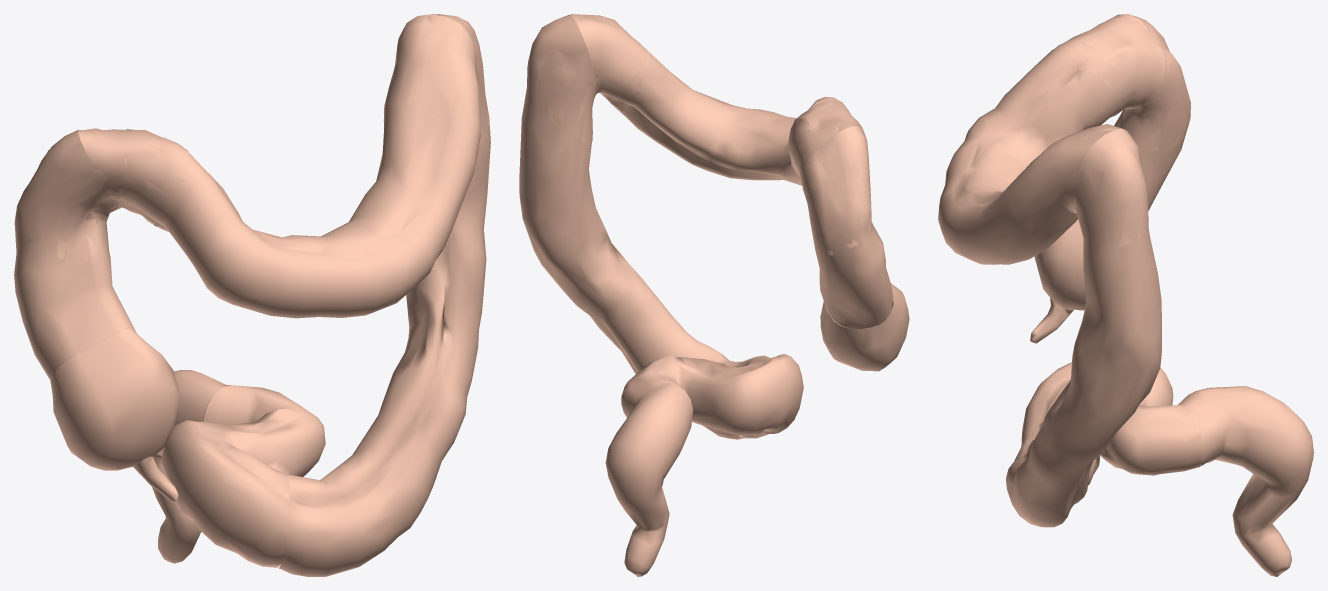
Rendered from sbu_f_intestine_large-40.glb.
3 renders of one model, left to right at view 1: azimuth 30°, elevation 25°; view 2: azimuth 150°, elevation 25°; view 3: azimuth 270°, elevation 25°, orthographic. The views are drawn at different scales.
Parts seen in each view (by area): view 1: VH_F_transverse_colon, VH_F_descending_colon, VH_F_sigmoid_colon, VH_F_ascending_colon, VH_F_caecum, VH_F_hepatic_flexure_of_colon, VH_F_rectum, VH_F_splenic_flexure_of_colon, VH_F_vermiform_appendix; view 2: VH_F_descending_colon, VH_F_transverse_colon, VH_F_ascending_colon, VH_F_rectum, VH_F_sigmoid_colon, VH_F_caecum, VH_F_splenic_flexure_of_colon, VH_F_hepatic_flexure_of_colon; view 3: VH_F_descending_colon, VH_F_transverse_colon, VH_F_rectum, VH_F_sigmoid_colon, VH_F_ascending_colon, VH_F_hepatic_flexure_of_colon, VH_F_splenic_flexure_of_colon, VH_F_caecum, VH_F_vermiform_appendix.
Part boxes in pixels (<box>): VH_F_transverse_colon: <box>78,14,480,318</box>; VH_F_descending_colon: <box>278,14,490,576</box>; VH_F_sigmoid_colon: <box>161,385,325,567</box>; VH_F_ascending_colon: <box>14,130,135,379</box>; VH_F_caecum: <box>50,327,180,470</box>; VH_F_hepatic_flexure_of_colon: <box>15,128,188,261</box>; VH_F_rectum: <box>152,370,230,563</box>; VH_F_splenic_flexure_of_colon: <box>383,14,489,154</box>; VH_F_vermiform_appendix: <box>133,456,178,502</box>; VH_F_descending_colon: <box>519,15,742,439</box>; VH_F_transverse_colon: <box>570,14,862,185</box>; VH_F_ascending_colon: <box>800,126,893,329</box>; VH_F_rectum: <box>605,380,693,576</box>; VH_F_sigmoid_colon: <box>622,354,803,438</box>; VH_F_caecum: <box>820,283,909,371</box>; VH_F_splenic_flexure_of_colon: <box>525,14,649,142</box>; VH_F_hepatic_flexure_of_colon: <box>788,96,874,255</box>; VH_F_descending_colon: <box>1006,128,1161,527</box>; VH_F_transverse_colon: <box>938,14,1164,264</box>; VH_F_rectum: <box>1197,386,1313,576</box>; VH_F_sigmoid_colon: <box>1022,362,1202,475</box>; VH_F_ascending_colon: <box>1114,15,1190,210</box>; VH_F_hepatic_flexure_of_colon: <box>1042,21,1190,150</box>; VH_F_splenic_flexure_of_colon: <box>1010,128,1148,261</box>; VH_F_caecum: <box>1034,219,1086,310</box>; VH_F_vermiform_appendix: <box>1030,298,1073,343</box>.
Size of the model in its own units: 0.2431 by 0.2951 by 0.1934.
